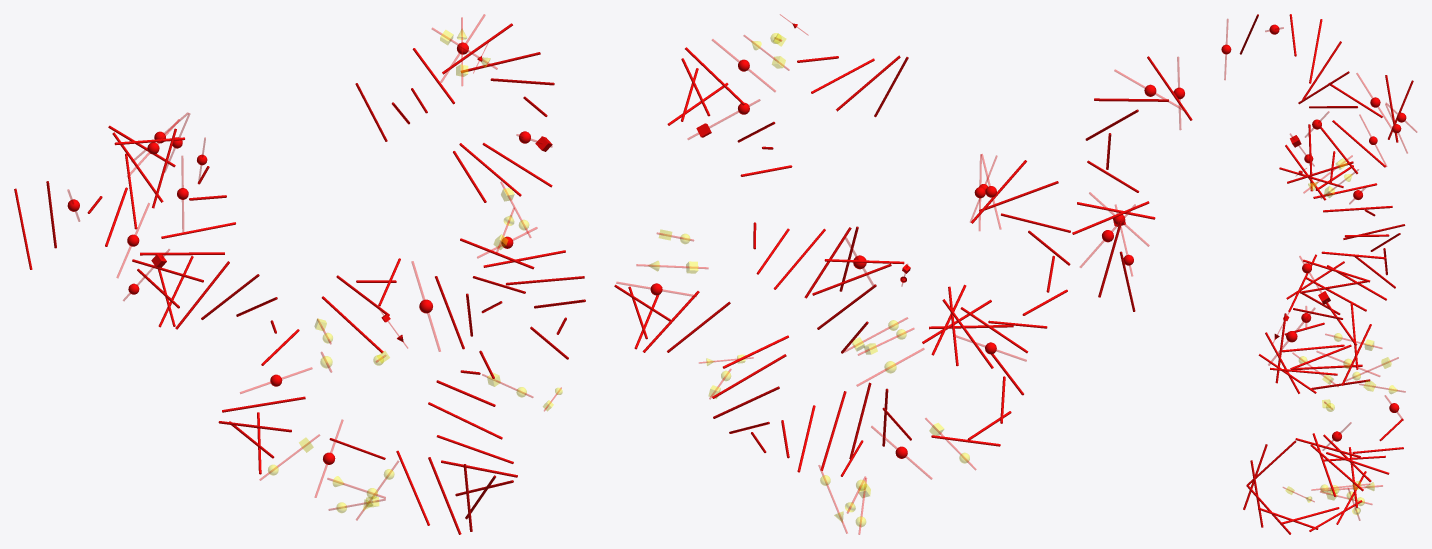
The model's file is candidate.gltf.
3 renders of one model, left to right at view 1: azimuth 30°, elevation 25°; view 2: azimuth 150°, elevation 25°; view 3: azimuth 270°, elevation 25°, orthographic. The views are drawn at different scales.
Bounding box in the file's own units: 100 × 89.03 × 38.71.
